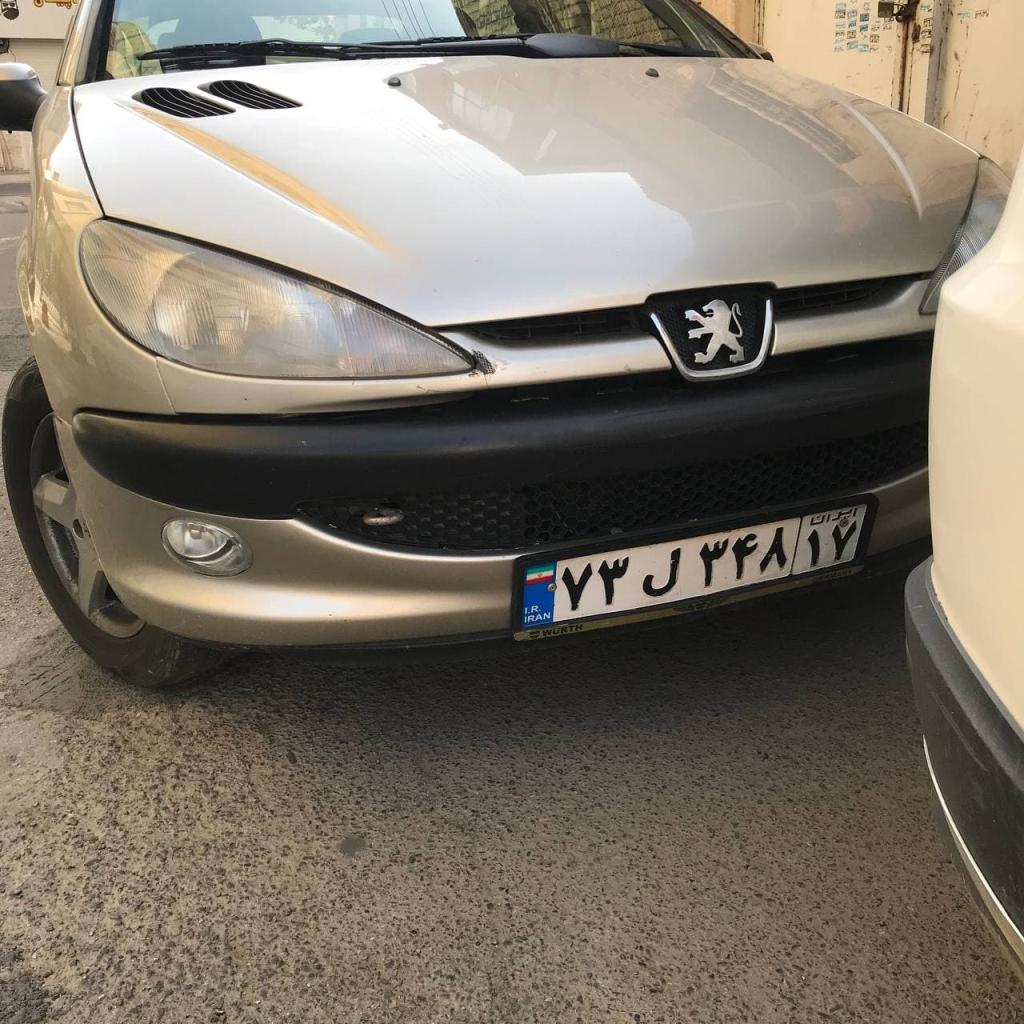Plates: (521, 503, 867, 630)
